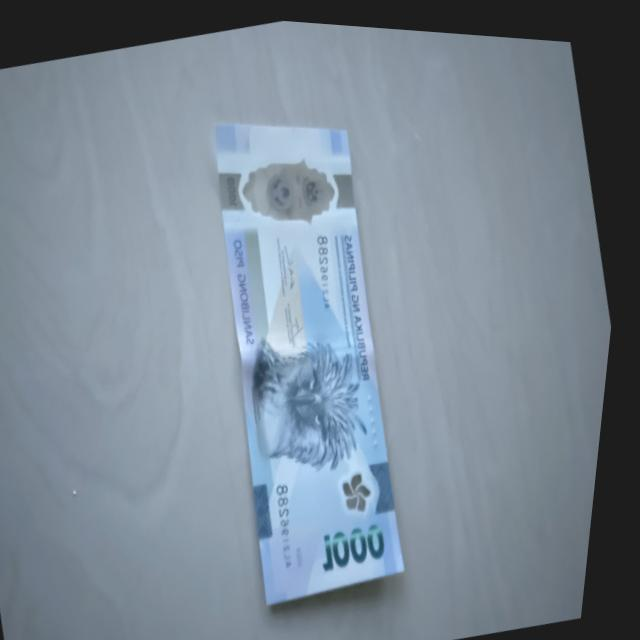clear_window: (230, 141, 354, 238)
eagle: (245, 322, 392, 478)
sampaguita: (345, 460, 389, 515)
